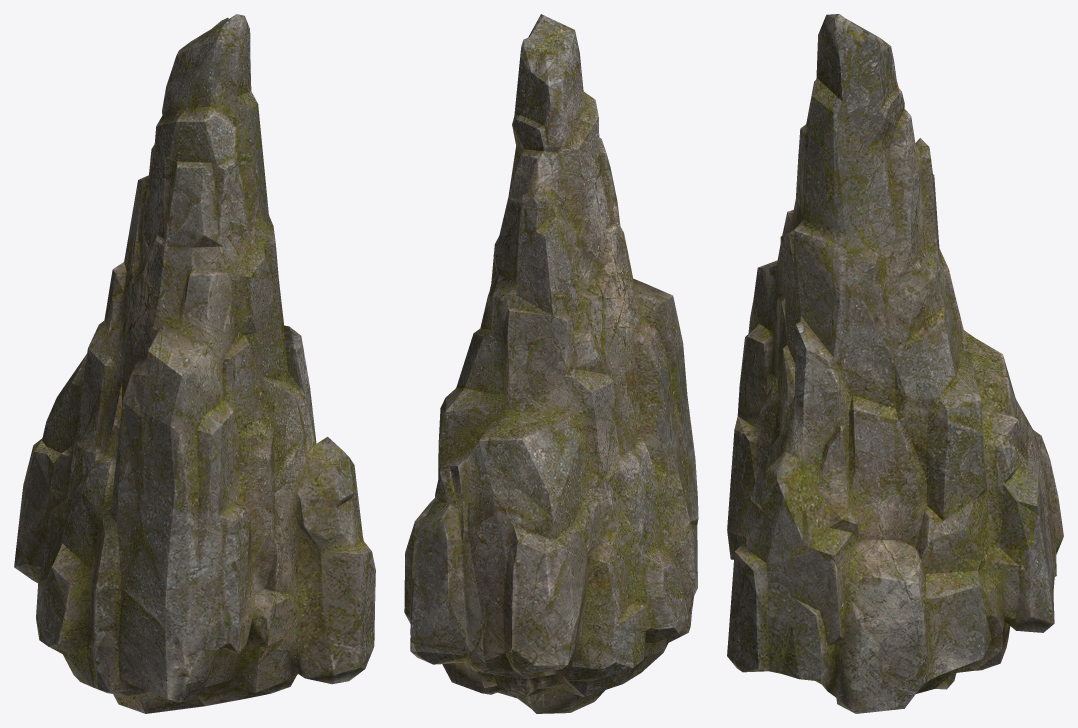
The model's file is bg_anh_mirrorv_st01_sm_old.FBX.
3 views of the same model, side by side, from view 1: azimuth 30°, elevation 25°; view 2: azimuth 150°, elevation 25°; view 3: azimuth 270°, elevation 25° (orthographic). The views are drawn at different scales.
Parts seen in each view (by area): view 1: bg_anh_mirrorv_st01_sm_old; view 2: bg_anh_mirrorv_st01_sm_old; view 3: bg_anh_mirrorv_st01_sm_old.
Part boxes in pixels (x1=…): bg_anh_mirrorv_st01_sm_old: x1=14, y1=14, x2=375, y2=713; bg_anh_mirrorv_st01_sm_old: x1=404, y1=14, x2=698, y2=713; bg_anh_mirrorv_st01_sm_old: x1=727, y1=14, x2=1063, y2=713.
Size of the model in its own units: 292 by 688 by 311.
